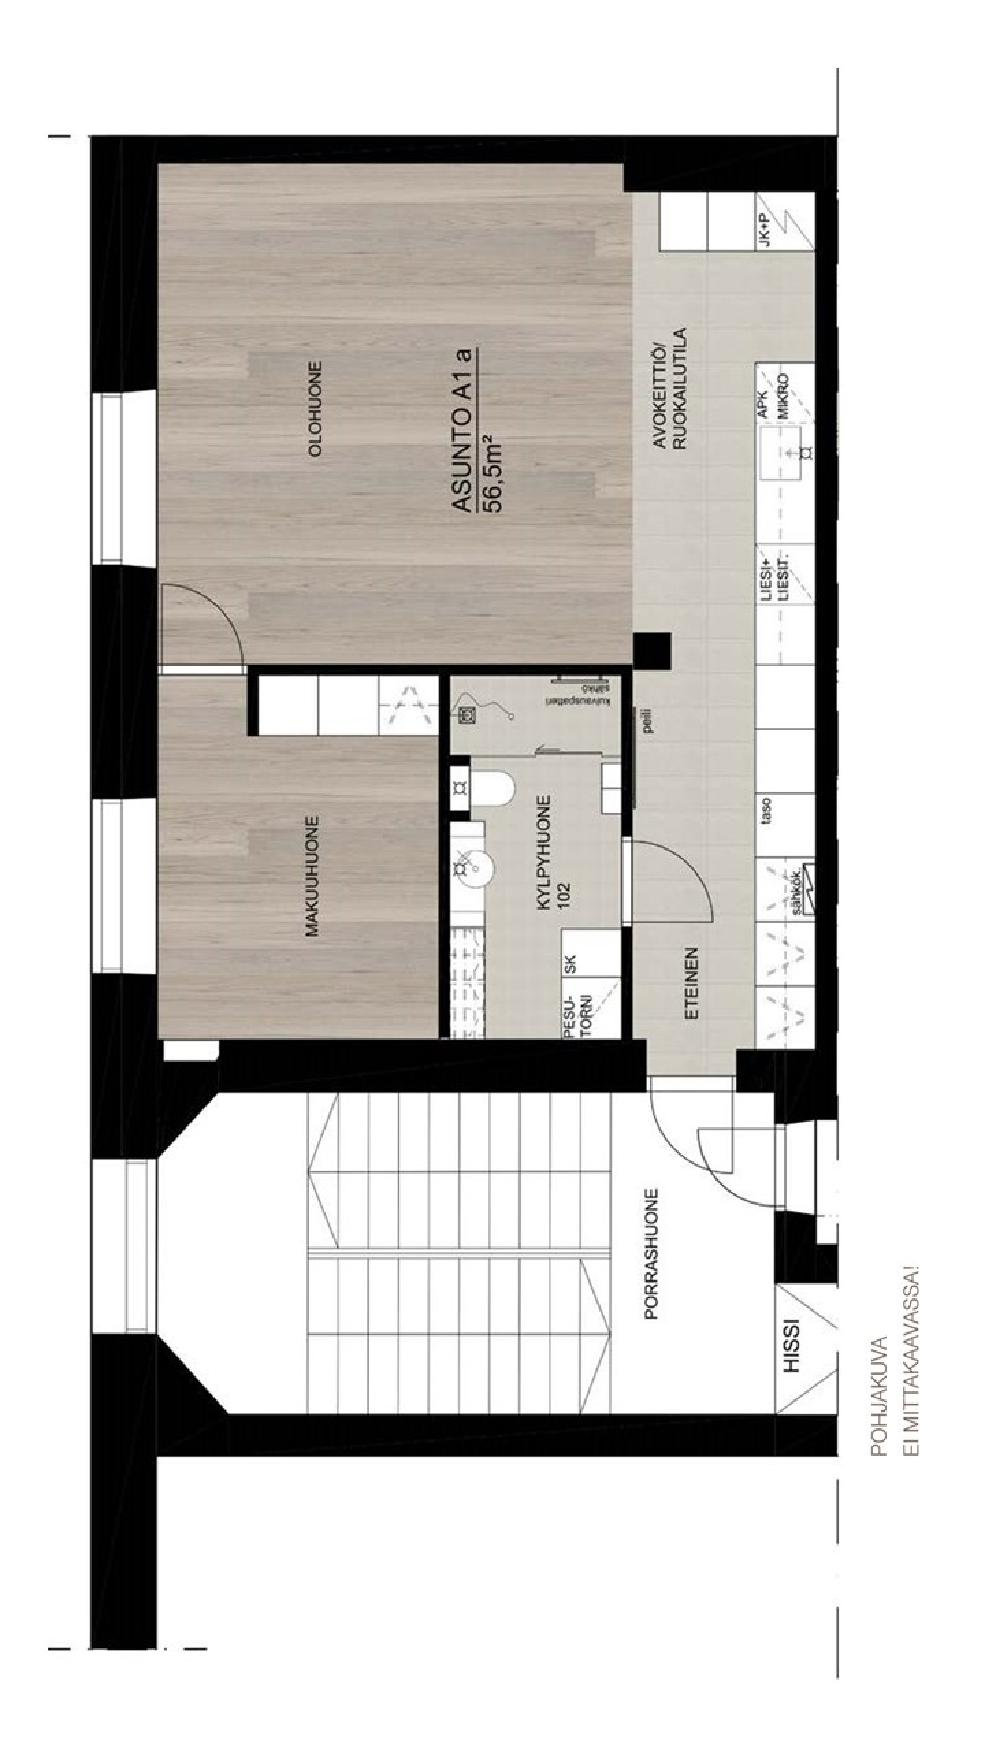door: (154, 582, 250, 684), (687, 1127, 805, 1210), (615, 847, 713, 934), (649, 1080, 736, 1167)
window: (87, 382, 160, 578), (82, 1158, 150, 1339), (87, 793, 152, 973)
zone: (156, 160, 824, 1064), (93, 1078, 839, 1412), (152, 673, 432, 1047), (445, 675, 627, 1038)
